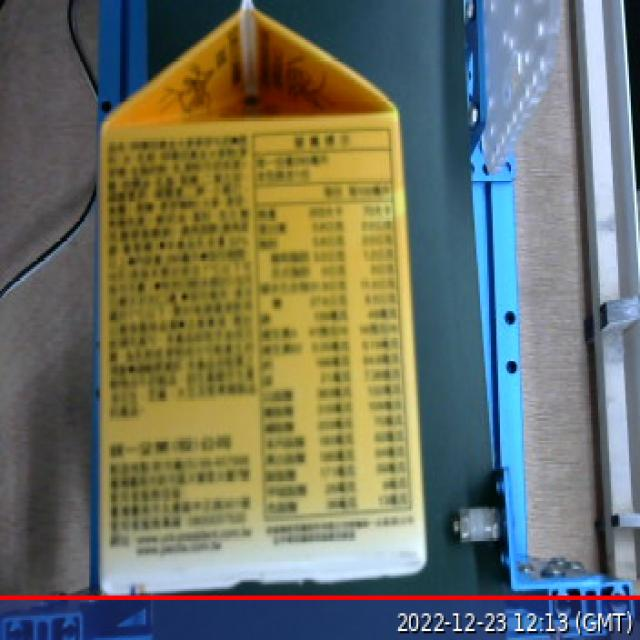non_white_jug: (85, 0, 430, 600)
